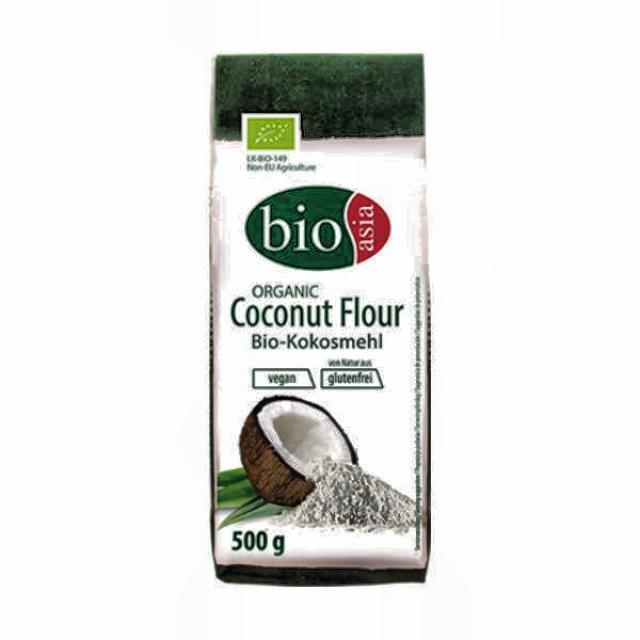cardboard: (208, 52, 430, 585)
